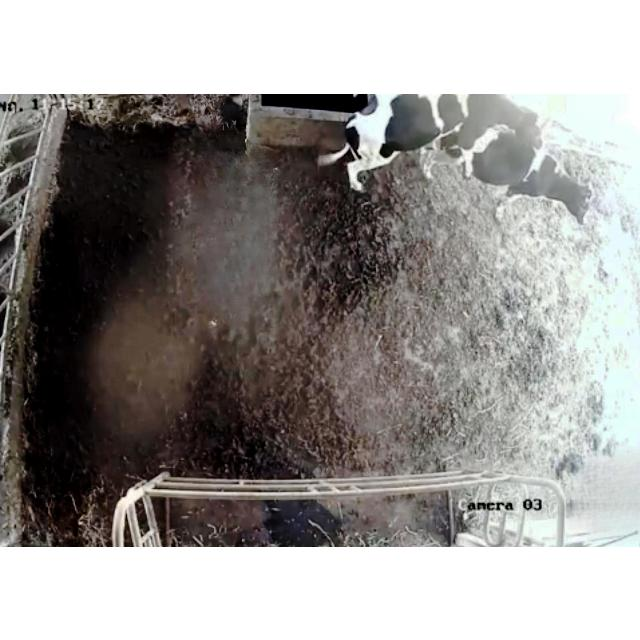ride: (309, 92, 546, 228)
